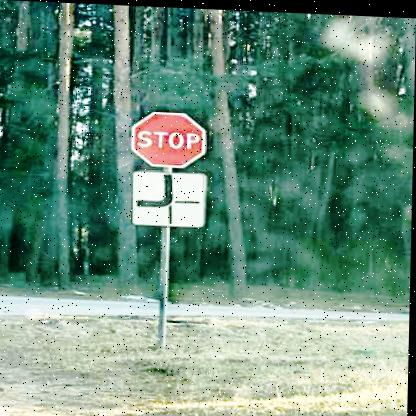Stop Sign: (131, 106, 212, 169)
